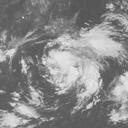cyclone: (43, 34, 109, 96)
